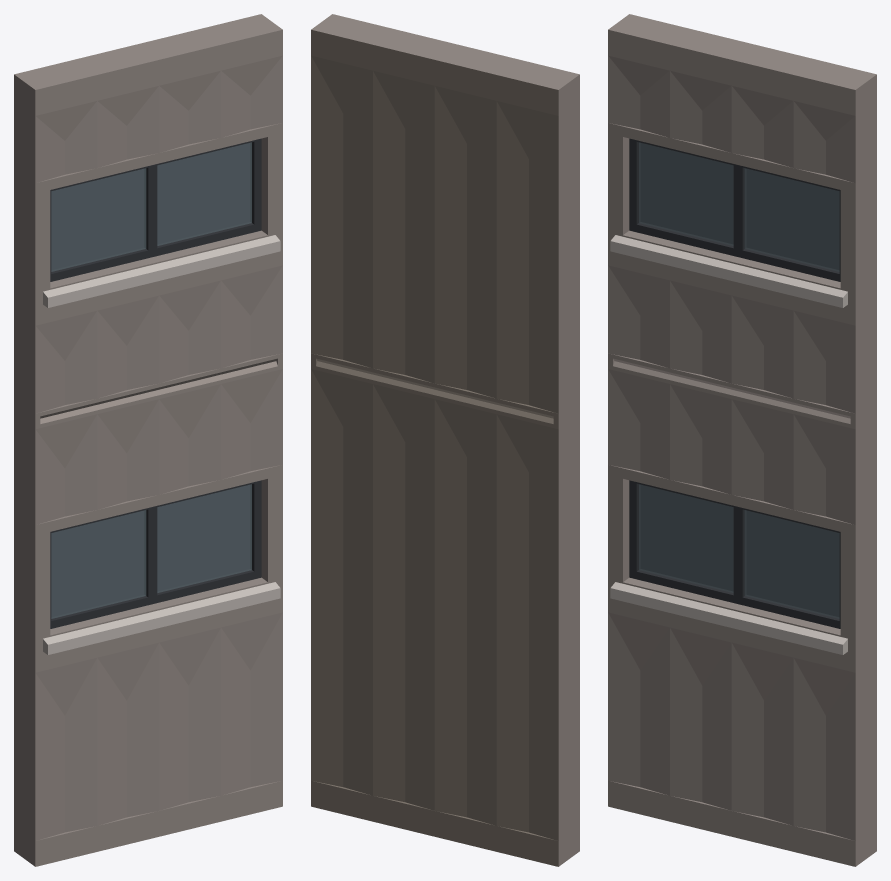
Rendered from exterior-wall-1m-solid-eb2bbe.glb.
3 views of the same model, side by side, from view 1: azimuth 30°, elevation 25°; view 2: azimuth 150°, elevation 25°; view 3: azimuth 330°, elevation 25° (orthographic).
Visible parts, largest first — view 1: wall, glass; view 2: wall; view 3: wall, glass.
Boxes of the visible parts, bbox=[...] form: wall: bbox=[14, 14, 282, 866]; glass: bbox=[51, 142, 251, 618]; wall: bbox=[311, 14, 579, 866]; wall: bbox=[608, 14, 876, 866]; glass: bbox=[639, 142, 839, 618].
Bounding box in the file's own units: 1 × 3 × 0.185.
